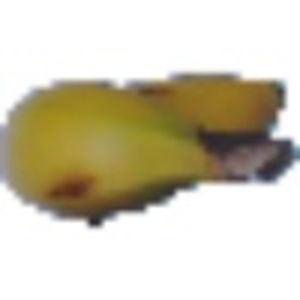banana: (3, 63, 290, 216)
